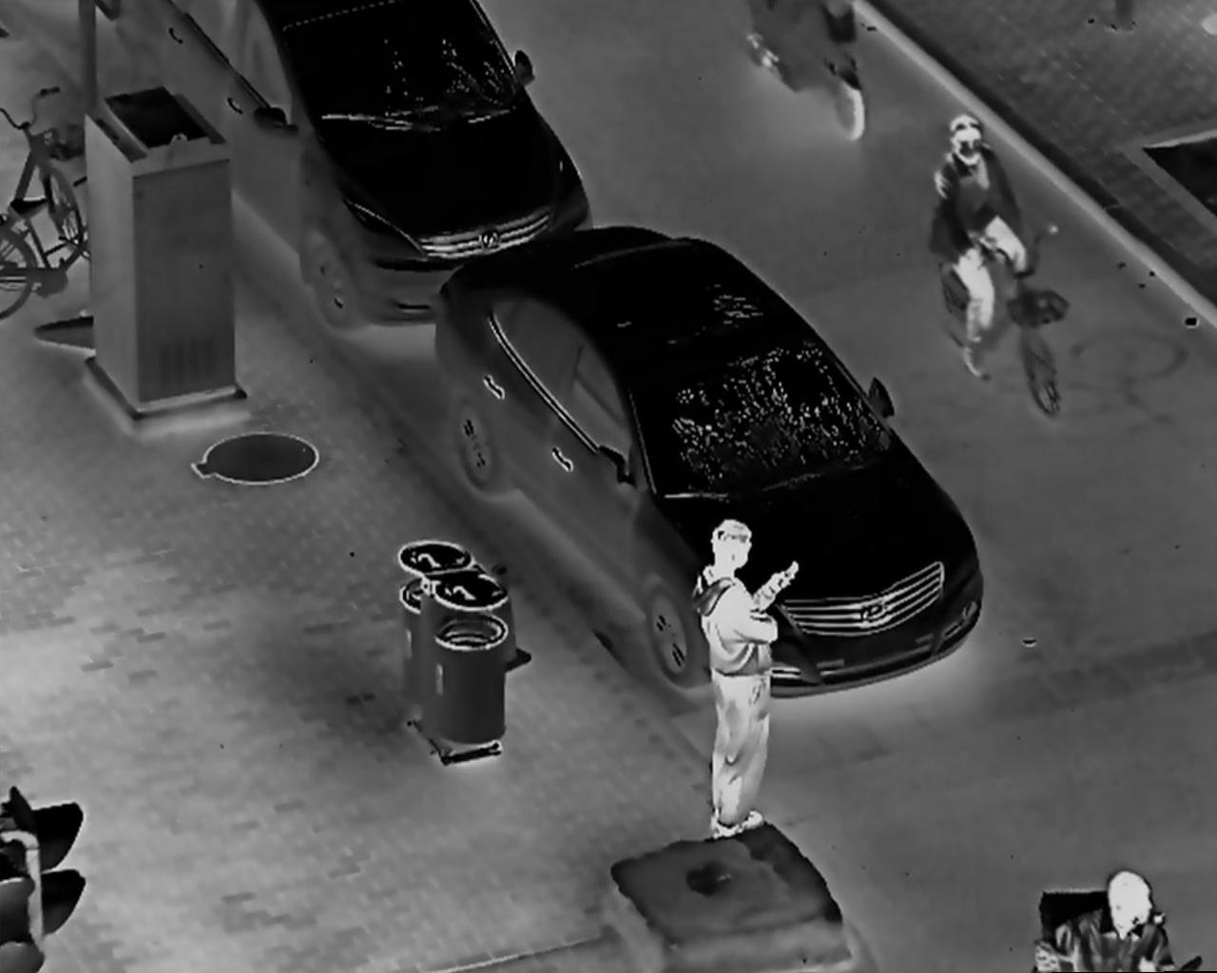person: (684, 511, 802, 844), (924, 111, 1045, 394), (1043, 865, 1169, 973)
